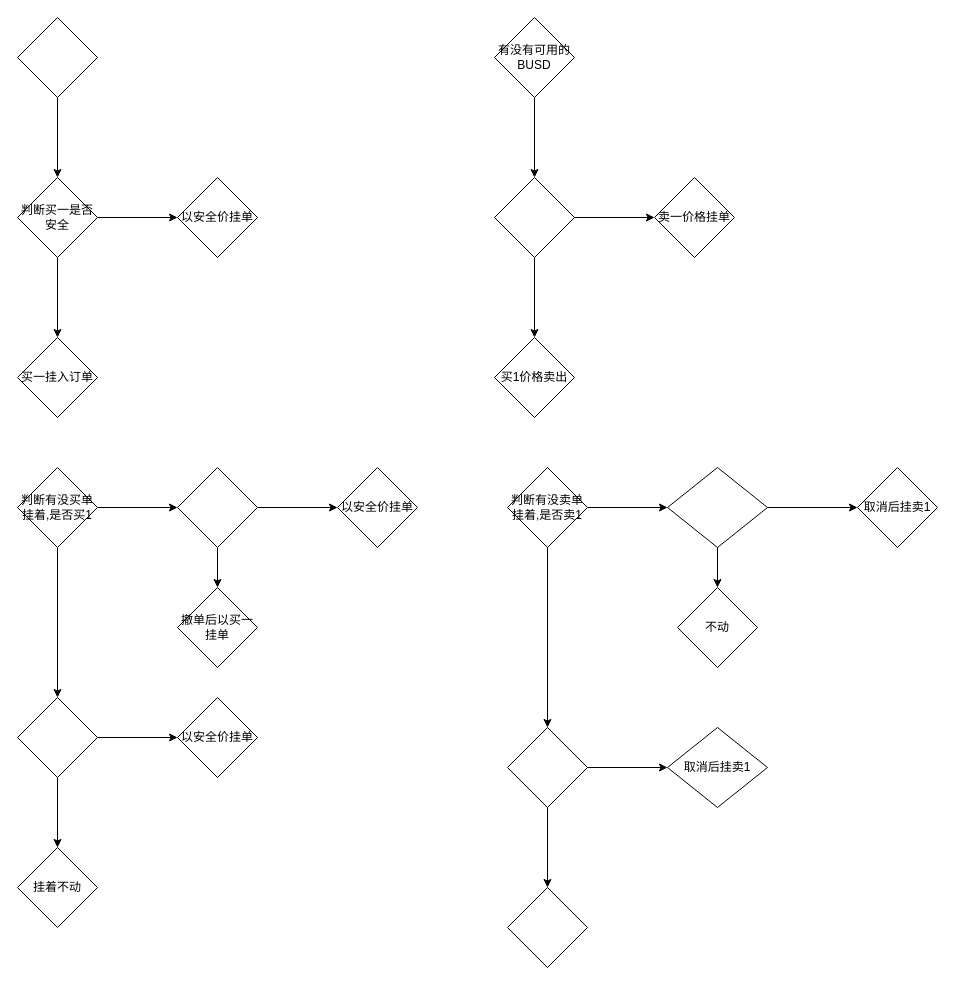
The diagram is 955 pixels wide and 985 high, and some of its shapes have lost their labels. The centre of each missing label's shape, as x and y in pixels:
买1是否危险: point (534, 217)
买一是否安全: point (217, 507)
判断可用余额有没有可用USDT: point (57, 57)
卖1是不是太便宜: point (547, 767)
卖1是否太便宜: point (717, 507)
是否安全: point (57, 737)
